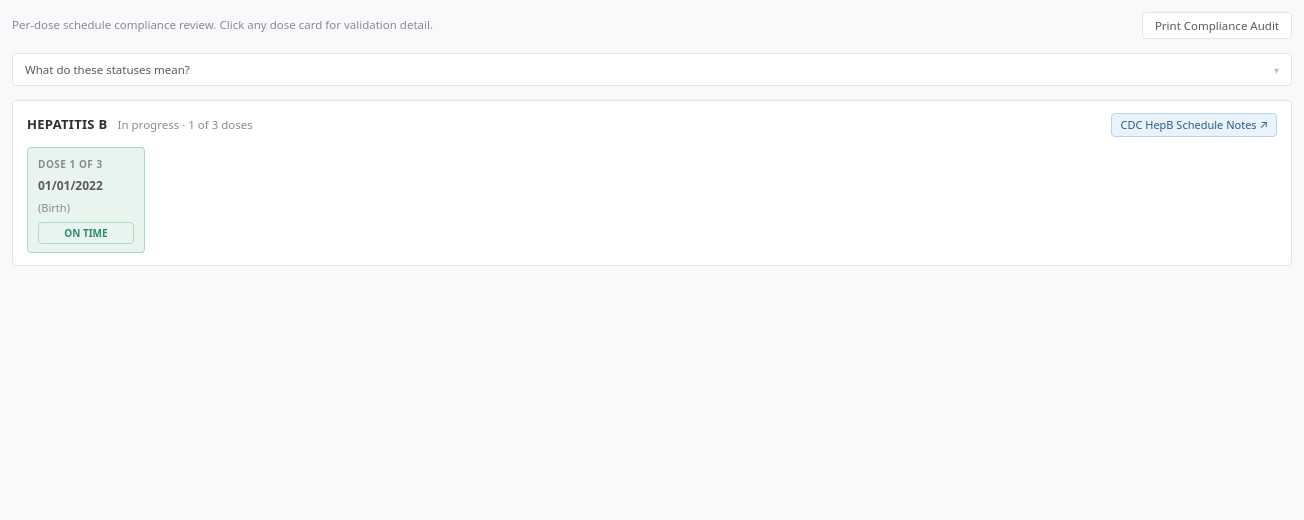
status legend › clicking toggle again collapses the legend
Click the button with test id "status-legend-toggle": (107, 70) [13,54,1291,85]
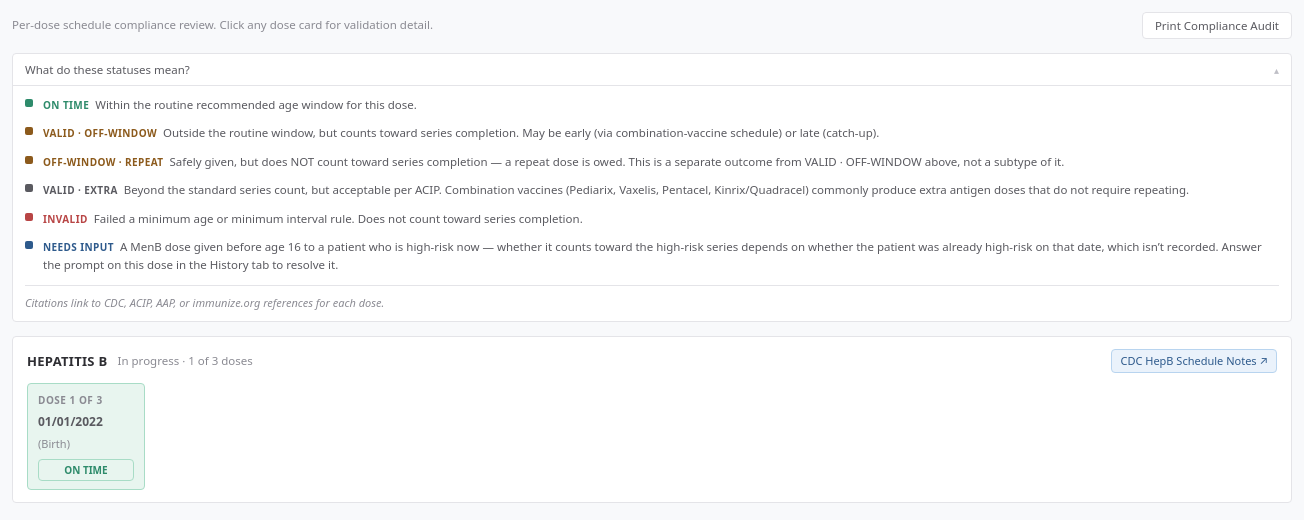
Expected: the element with test id "status-legend-content" is shown, [13,85,1291,321]
Click the button with test id "status-legend-toggle": (107, 70) [13,54,1291,85]
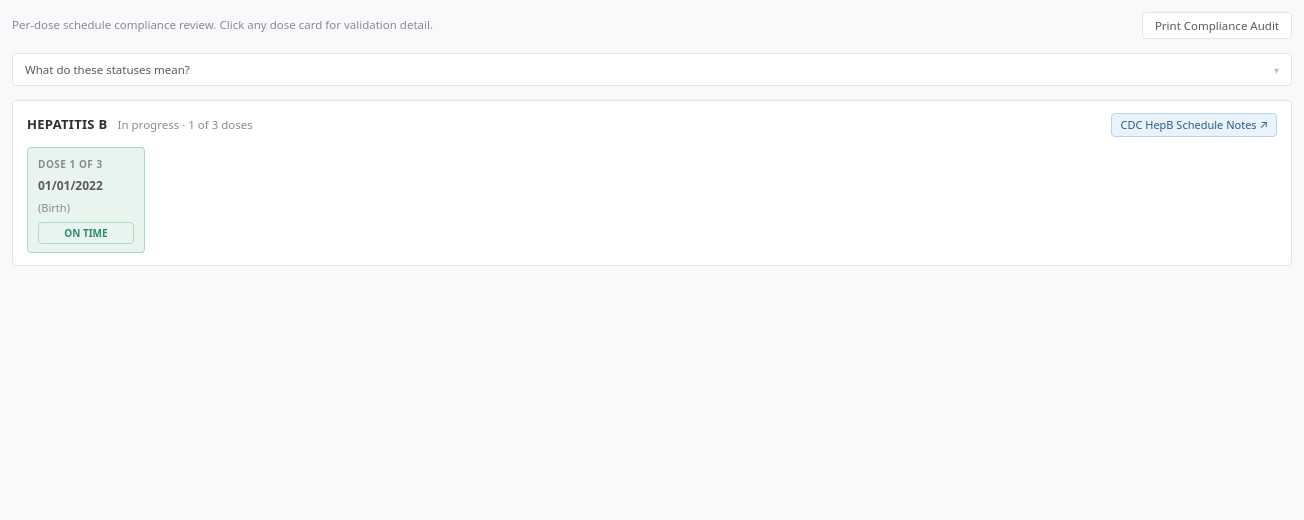
Expected: the element with test id "status-legend-content" is gone
